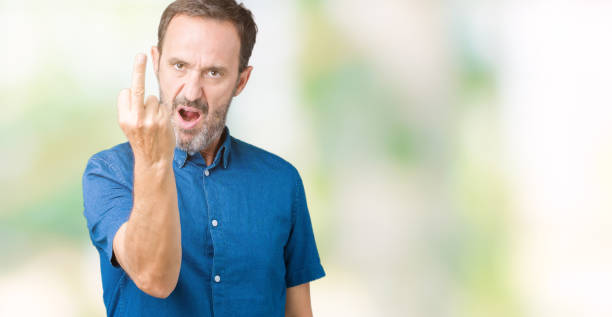insulting_gesture: (119, 49, 178, 161)
